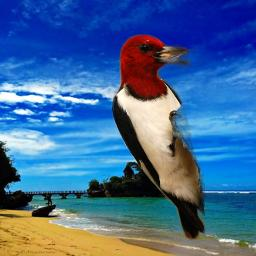Woodpecker: (111, 34, 205, 240)
